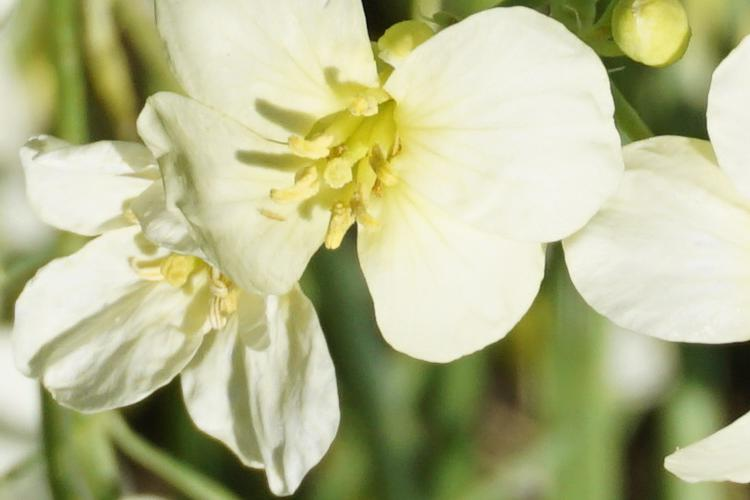bud: (610, 2, 703, 74)
white: (145, 1, 627, 367), (11, 114, 350, 484), (571, 39, 750, 461)
